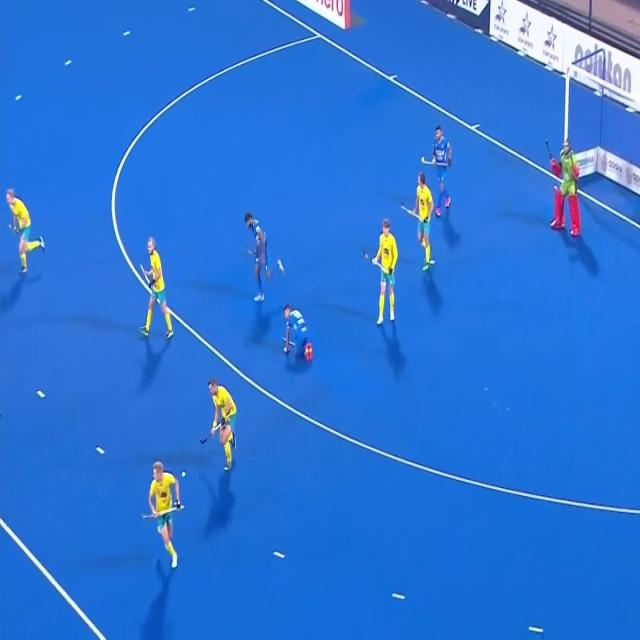ball: (180, 470, 188, 481)
